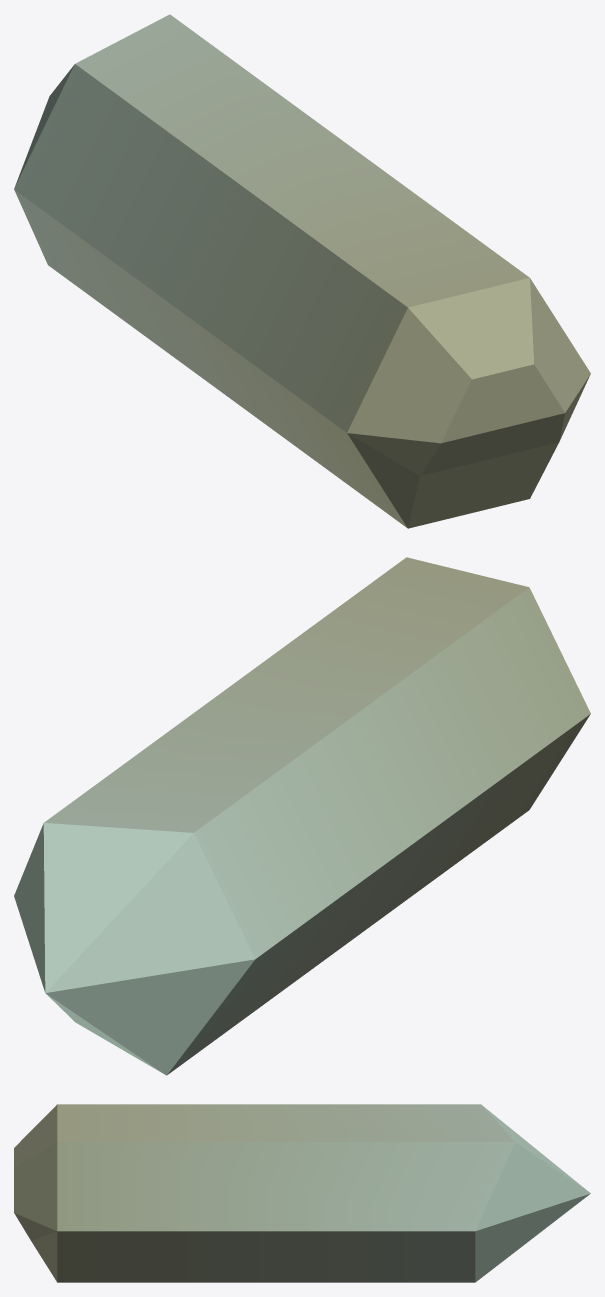
The model's file is ColoredCrystal.004.glb.
3 views of the same model, one above another, from view 1: azimuth 30°, elevation 25°; view 2: azimuth 150°, elevation 25°; view 3: azimuth 270°, elevation 25° (orthographic). The views are drawn at different scales.
Parts seen in each view (by area): view 1: ColoredCrystal.004; view 2: ColoredCrystal.004; view 3: ColoredCrystal.004.
Boxes of the visible parts, bbox=[...] form: ColoredCrystal.004: bbox=[14, 14, 590, 528]; ColoredCrystal.004: bbox=[14, 557, 590, 1075]; ColoredCrystal.004: bbox=[14, 1104, 590, 1282].
Size of the model in its own units: 150 by 130 by 482.
